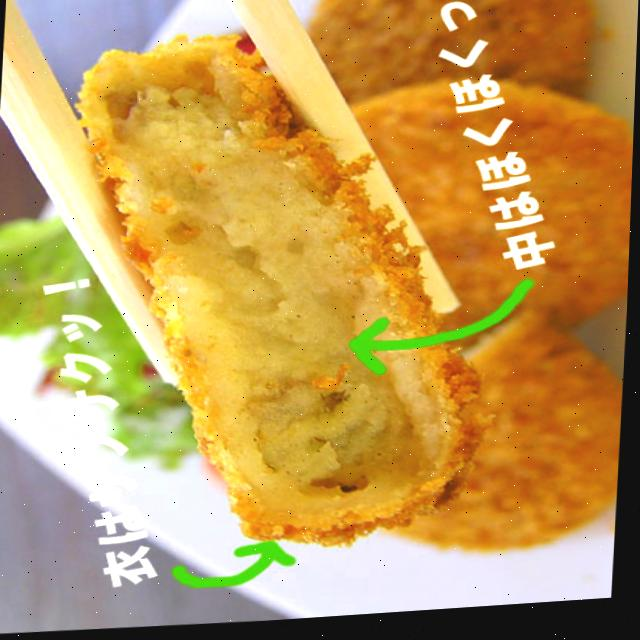炸货点心: (57, 42, 505, 568)
